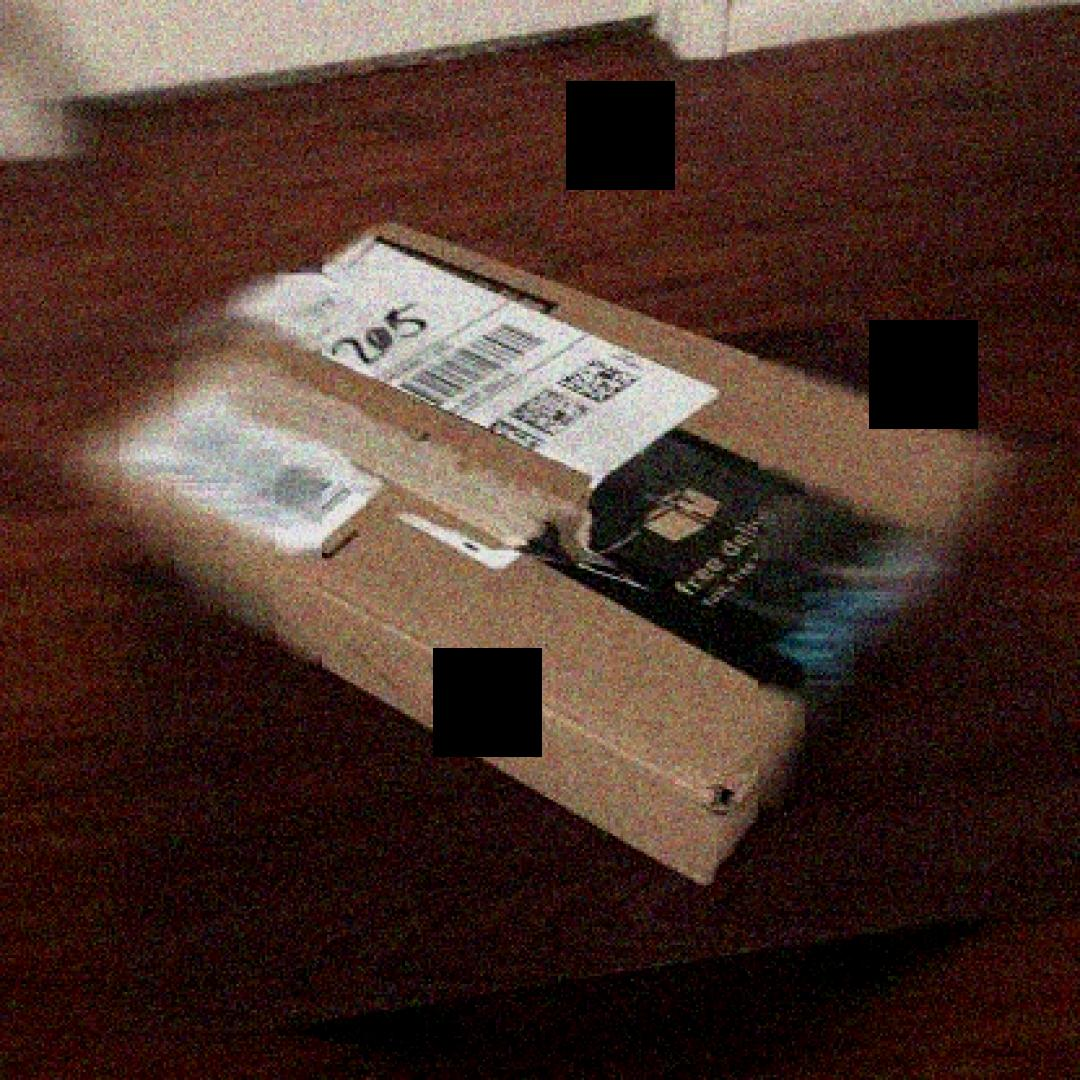package: (18, 187, 1044, 930)
